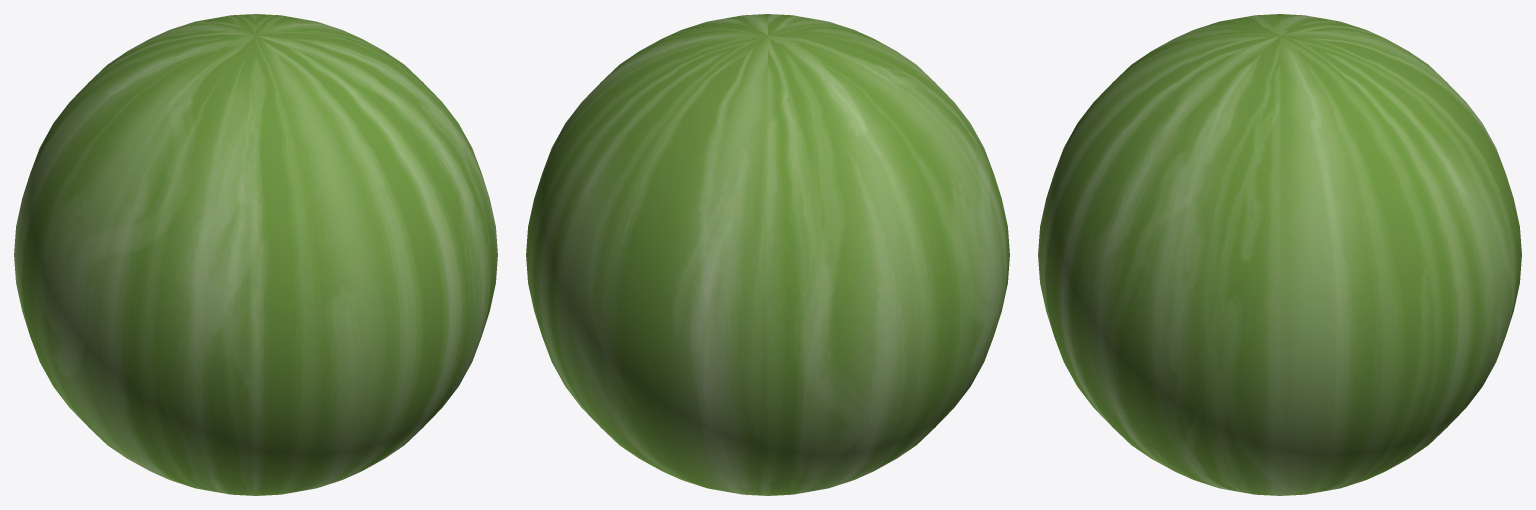
The model's file is bwg_ball__bwg_ball_green.glb.
3 views of the same model, side by side, from view 1: azimuth 30°, elevation 25°; view 2: azimuth 150°, elevation 25°; view 3: azimuth 270°, elevation 25° (orthographic).
Parts seen in each view (by area): view 1: polygon0; view 2: polygon0; view 3: polygon0.
Part boxes in pixels (x1=…): polygon0: x1=14, y1=14, x2=497, y2=495; polygon0: x1=526, y1=14, x2=1009, y2=495; polygon0: x1=1038, y1=14, x2=1521, y2=495.
Size of the model in its own units: 2.18 by 2.18 by 2.18.
Materials: 1 (1 with a texture image).
